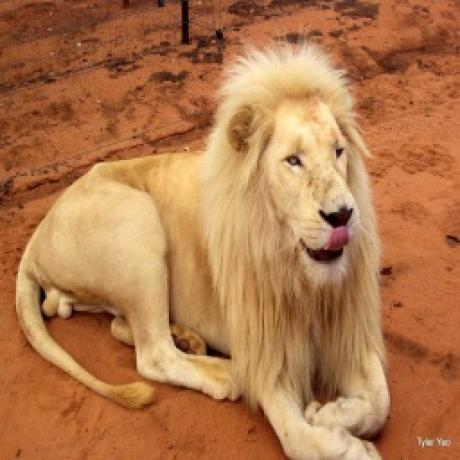Lion: (10, 27, 392, 460)
